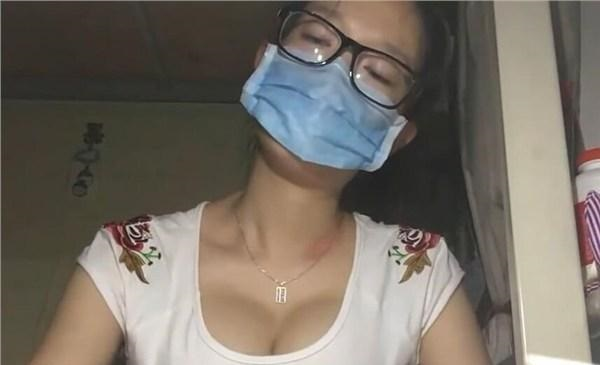face_mask: (254, 1, 414, 182)
